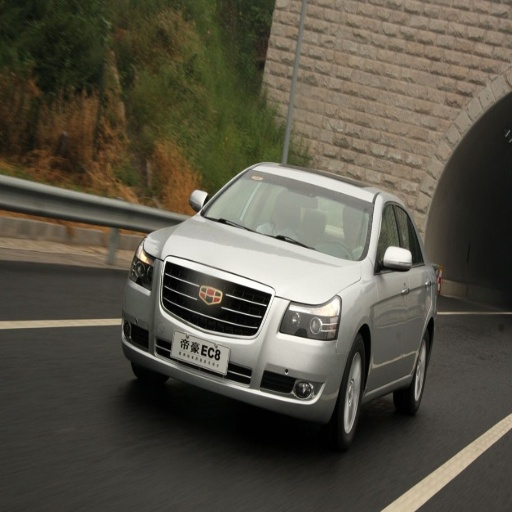front_bumper: (123, 257, 350, 416)
front_glass: (200, 169, 373, 260)
front_left_door: (374, 200, 410, 382)
